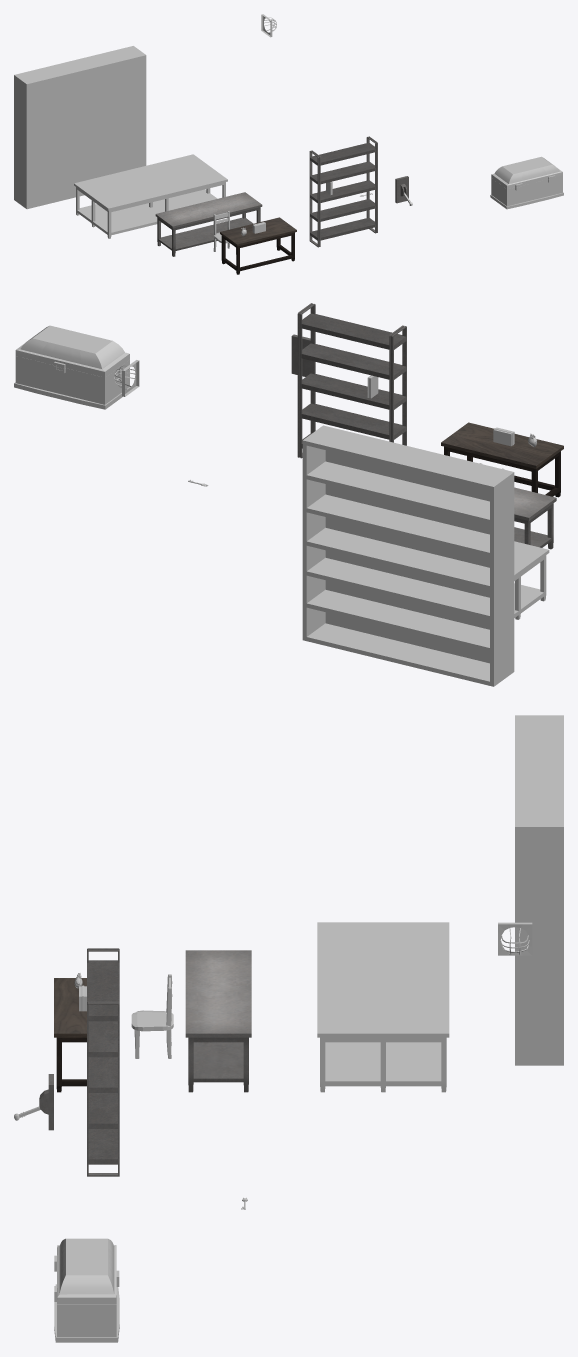
The model's file is moreObjects.fbx.
3 views of the same model, one above another, from view 1: azimuth 30°, elevation 25°; view 2: azimuth 150°, elevation 25°; view 3: azimuth 270°, elevation 25° (orthographic). The views are drawn at different scales.
Parts seen in each view (by area): view 1: pCube14, meattable2x8, x2x3_regal, meattable1x3, woodentable1x2, polySurface7, polySurface8, polySurface14, Schalter; view 2: pCube14, x2x3_regal, woodentable1x2, polySurface7, polySurface8, meattable1x3, meattable2x8, Schalter, lamp; view 3: meattable2x8, pCube14, meattable1x3, x2x3_regal, polySurface8, polySurface7, woodentable1x2, polySurface14, lamp.
Boxes of the visible parts, <box> form: pCube14: <box>14,46,146,209</box>; meattable2x8: <box>74,154,227,238</box>; x2x3_regal: <box>309,136,377,247</box>; meattable1x3: <box>155,192,262,256</box>; woodentable1x2: <box>220,217,296,274</box>; polySurface7: <box>490,176,563,209</box>; polySurface8: <box>491,156,562,189</box>; polySurface14: <box>213,211,236,254</box>; Schalter: <box>395,176,408,203</box>; pCube14: <box>302,425,514,686</box>; x2x3_regal: <box>297,303,406,458</box>; woodentable1x2: <box>441,422,563,497</box>; polySurface7: <box>14,356,130,409</box>; polySurface8: <box>15,325,129,377</box>; meattable1x3: <box>514,487,556,549</box>; meattable2x8: <box>514,541,549,619</box>; Schalter: <box>291,334,310,376</box>; lamp: <box>114,360,139,396</box>; meattable2x8: <box>317,922,449,1092</box>; pCube14: <box>515,715,563,1065</box>; meattable1x3: <box>185,950,251,1092</box>; x2x3_regal: <box>87,948,119,1176</box>; polySurface8: <box>54,1238,119,1304</box>; polySurface7: <box>54,1266,119,1342</box>; woodentable1x2: <box>54,978,86,1092</box>; polySurface14: <box>131,974,173,1058</box>; lamp: <box>498,922,532,955</box>.
Bounding box in the file's own units: 13.96 × 4.26 × 8.35.
